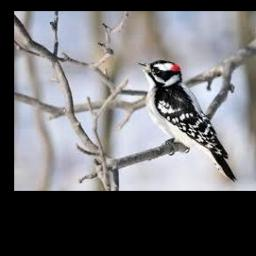Woodpecker: (135, 60, 237, 182)
